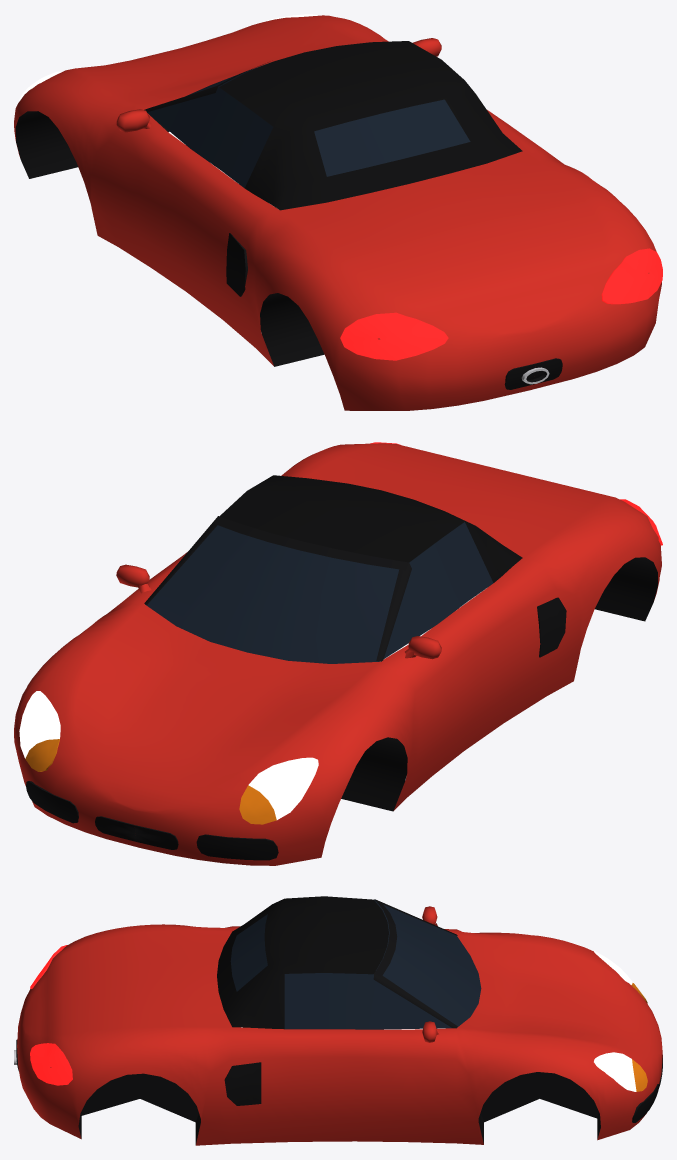
Rendered from car_boxster_986.glb.
3 renders of one model, top to bottom at view 1: azimuth 30°, elevation 25°; view 2: azimuth 150°, elevation 25°; view 3: azimuth 270°, elevation 25°, orthographic. The views are drawn at different scales.
Visible parts, largest first — view 1: Paint, SoftTop, Glass, Trim, Taillight; view 2: Paint, Glass, Trim, SoftTop, Headlight, Indicator; view 3: Paint, Glass, SoftTop, Trim, Taillight, Headlight, Indicator.
Boxes of the visible parts, box(x1,y1,x2,y2) form: Paint: box(14, 15, 661, 410); SoftTop: box(219, 41, 522, 210); Glass: box(147, 62, 470, 187); Trim: box(15, 62, 562, 389); Taillight: box(340, 248, 662, 360); Paint: box(14, 443, 661, 865); Glass: box(145, 522, 493, 663); Trim: box(26, 516, 657, 860); SoftTop: box(220, 475, 522, 582); Headlight: box(19, 691, 318, 819); Indicator: box(25, 739, 276, 824); Paint: box(17, 906, 662, 1145); Glass: box(230, 900, 481, 1029); SoftTop: box(217, 896, 388, 1029); Trim: box(16, 899, 662, 1144); Taillight: box(30, 945, 72, 1085); Headlight: box(594, 950, 636, 1091); Indicator: box(631, 983, 647, 1091).
Bounding box in the file's own units: 2.04 × 1.13 × 4.22.
